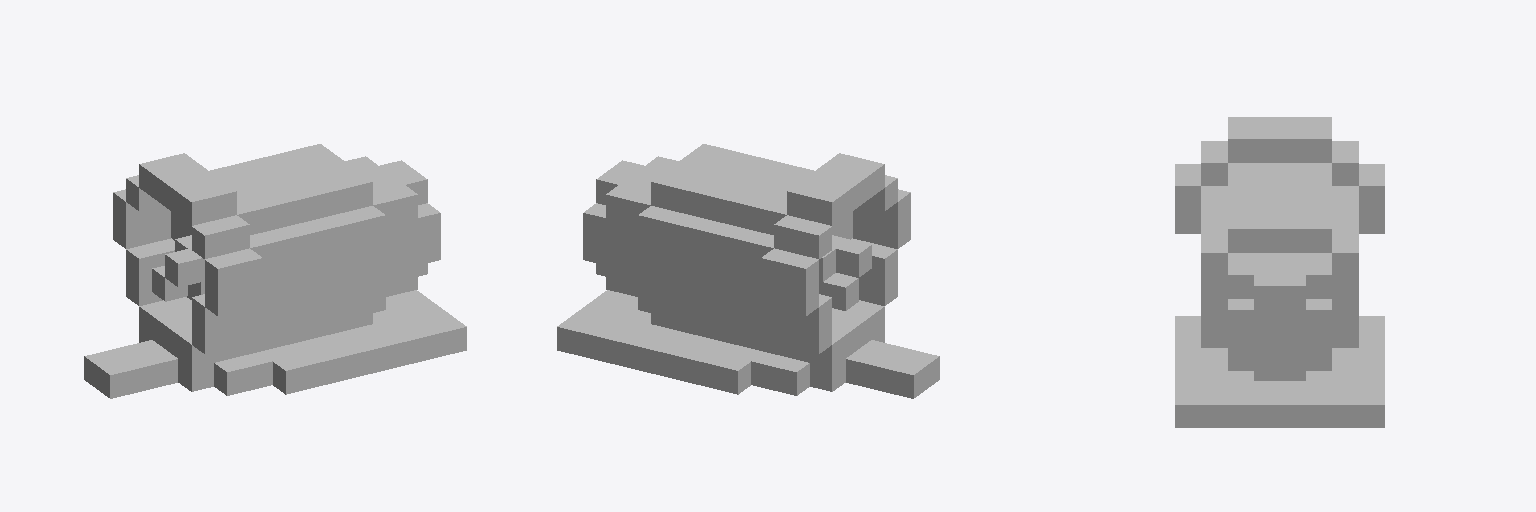
File: hardcook_cutting_board_with_lettuce.obj
The picture shows the model from 3 angles: view 1: azimuth 30°, elevation 25°; view 2: azimuth 150°, elevation 25°; view 3: azimuth 270°, elevation 25°; orthographic projection.
Visible parts, largest first — view 1: node_0_0_0.002, node_0_0_0; view 2: node_0_0_0.002, node_0_0_0; view 3: node_0_0_0.002, node_0_0_0.
Boxes of the visible parts, x1,y1,x2,y2 form: node_0_0_0.002: [113, 144, 440, 367]; node_0_0_0: [84, 290, 466, 398]; node_0_0_0.002: [583, 144, 910, 367]; node_0_0_0: [557, 290, 939, 398]; node_0_0_0.002: [1175, 117, 1384, 380]; node_0_0_0: [1175, 316, 1384, 427].
Size of the model in its own units: 0.875 by 0.5 by 0.5.